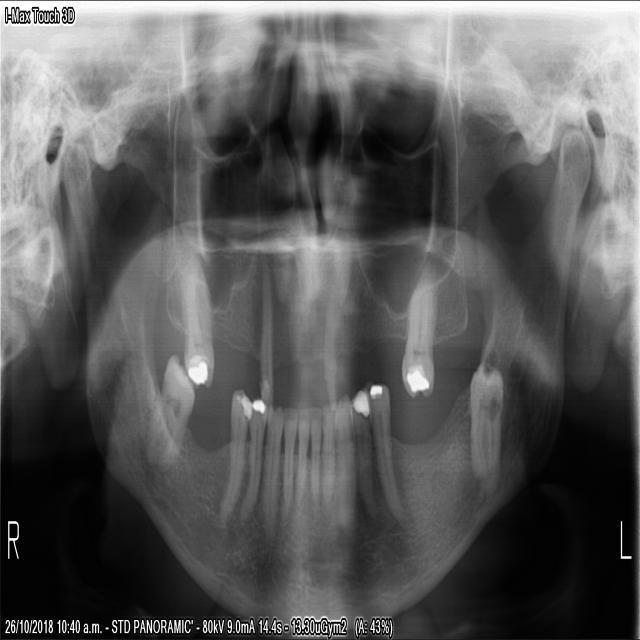LCD: (333, 394, 356, 528)
LID: (321, 398, 335, 517), (308, 403, 323, 513)
LMD: (467, 360, 503, 483)
LMU: (400, 263, 437, 398)
LPMD: (370, 384, 403, 532), (352, 389, 378, 519)
RCD: (259, 400, 283, 535)
RID: (293, 400, 309, 524), (281, 408, 296, 518)
RMD: (151, 349, 195, 469)
RMU: (179, 248, 215, 394)
RPMD: (222, 388, 250, 518), (240, 398, 266, 527)
RPMU: (259, 267, 275, 398)
